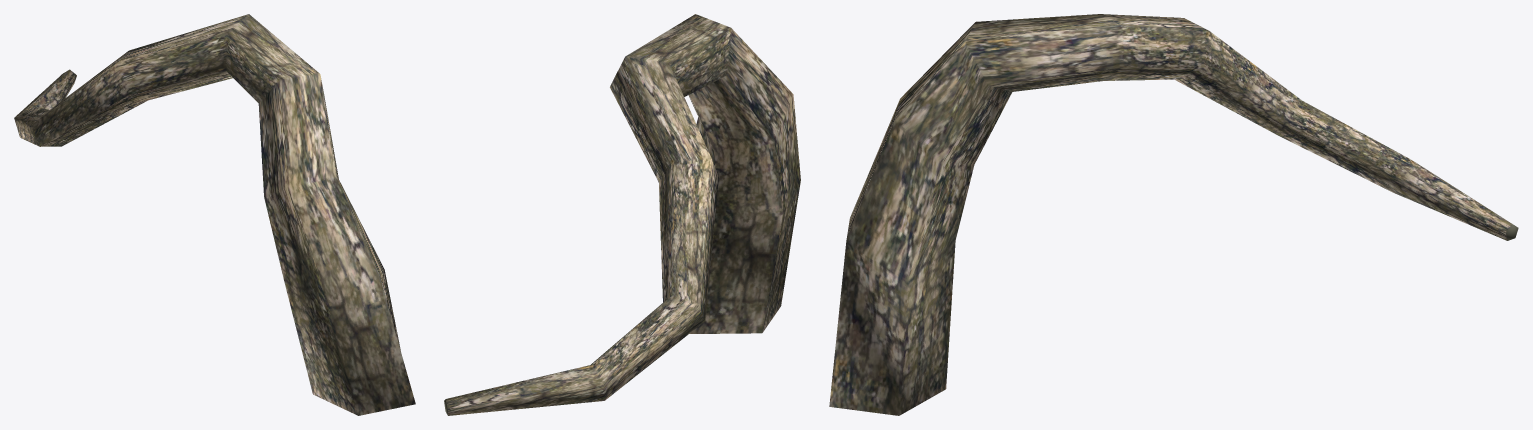
The model's file is OVERHILL_A_01_LINE332.fbx.
3 views of the same model, side by side, from view 1: azimuth 30°, elevation 25°; view 2: azimuth 150°, elevation 25°; view 3: azimuth 270°, elevation 25° (orthographic). The views are drawn at different scales.
Visible parts, largest first — view 1: OVERHILL_A_01_LINE332; view 2: OVERHILL_A_01_LINE332; view 3: OVERHILL_A_01_LINE332.
Boxes of the visible parts, <box> form: OVERHILL_A_01_LINE332: <box>14,14,415,415</box>; OVERHILL_A_01_LINE332: <box>444,14,800,415</box>; OVERHILL_A_01_LINE332: <box>829,14,1518,415</box>.
Size of the model in its own units: 41451 by 60369 by 105328.
1 material, 1 textured.
